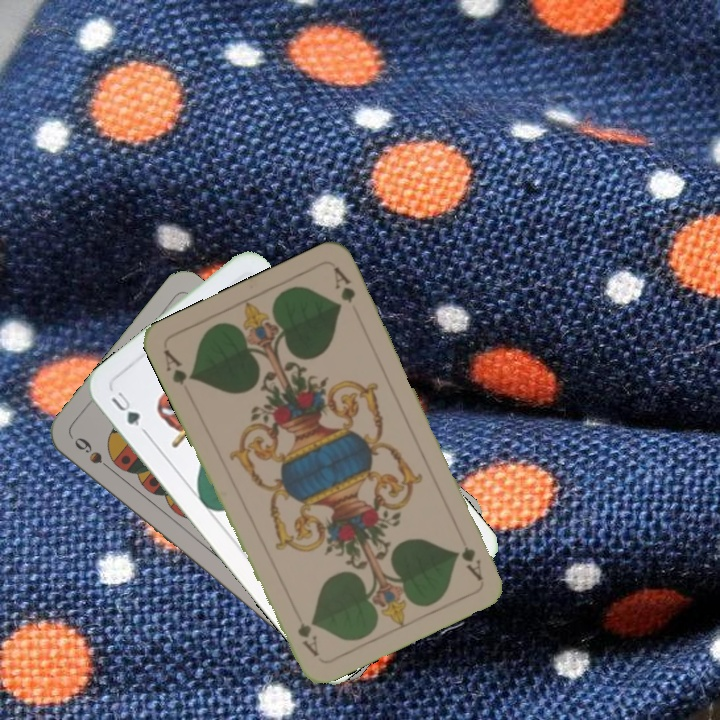GA: (160, 345, 197, 388), (457, 542, 486, 583)
GU: (106, 387, 143, 429)
S9: (70, 433, 119, 476)
